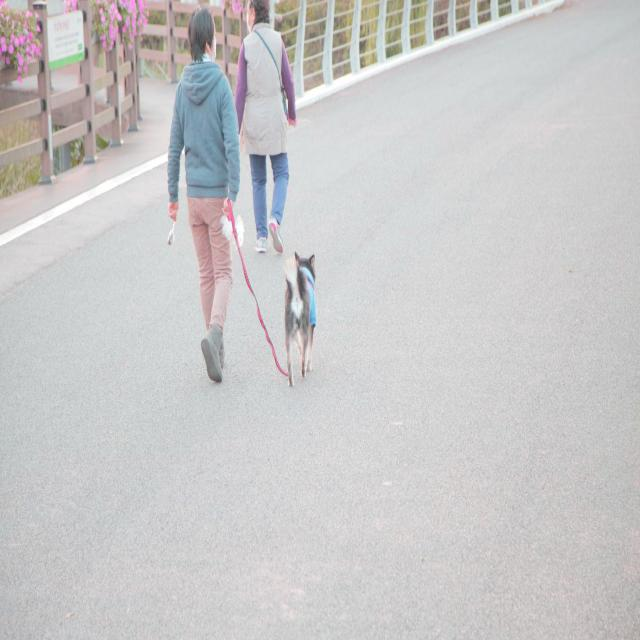Leashed_Dog: (209, 198, 316, 387)
